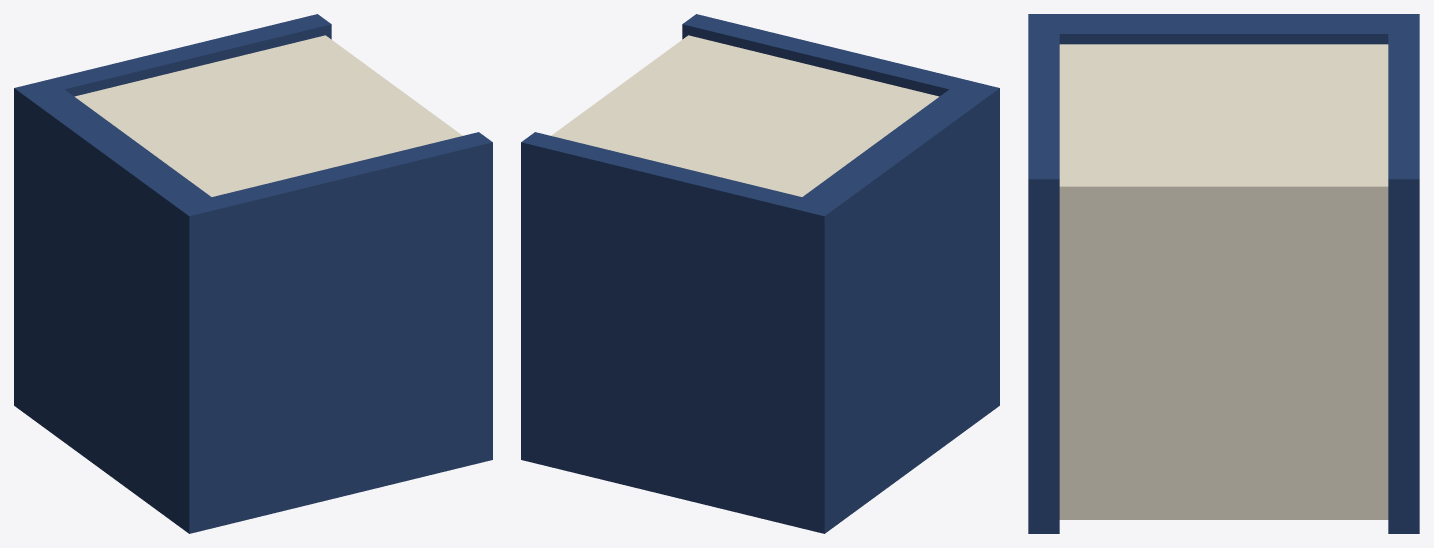
Rendered from book-1.glb.
3 renders of one model, left to right at view 1: azimuth 30°, elevation 25°; view 2: azimuth 150°, elevation 25°; view 3: azimuth 270°, elevation 25°, orthographic. The views are drawn at different scales.
Size of the model in its own units: 1 by 1 by 1.
